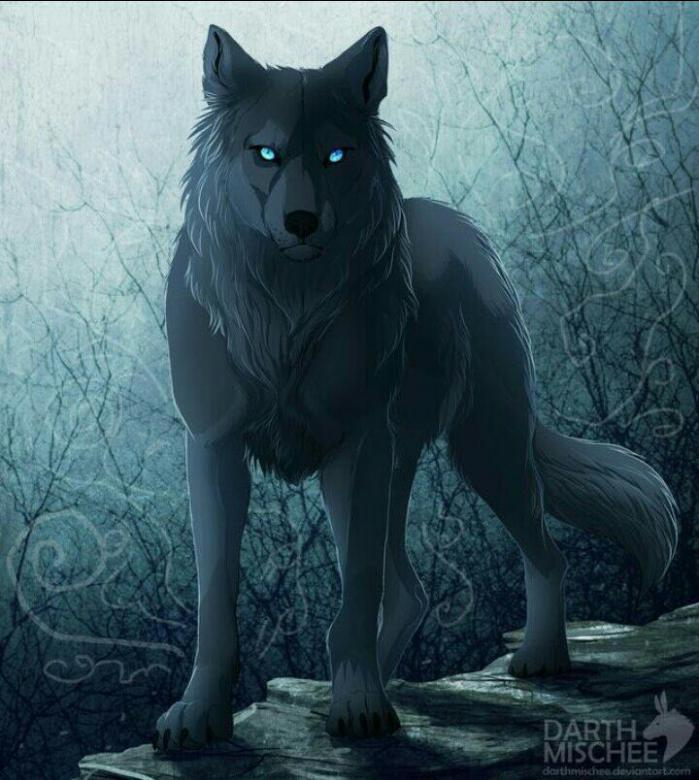Lobo: (101, 16, 665, 736)
